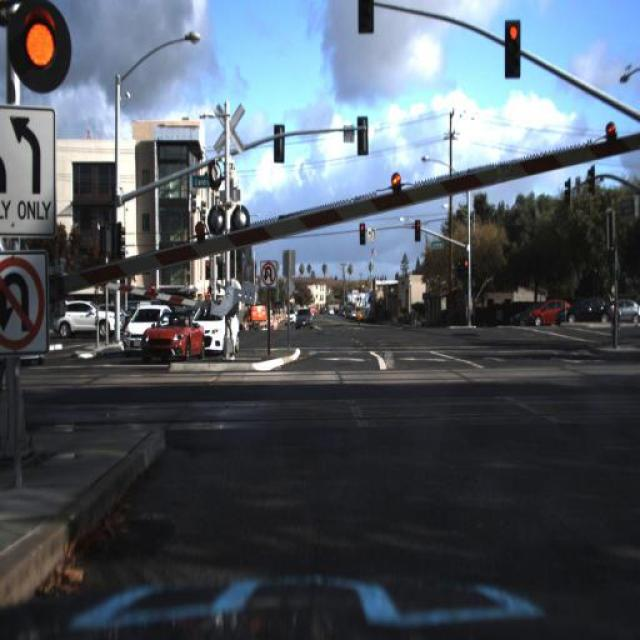car: (43, 294, 122, 344), (134, 310, 203, 360), (189, 300, 240, 356), (124, 303, 174, 353), (556, 293, 622, 329), (116, 304, 158, 355), (527, 297, 574, 324), (289, 299, 317, 333), (508, 300, 542, 328), (295, 305, 313, 329)
trafficLight-Green: (16, 2, 66, 83), (356, 1, 376, 36)
trafficLight-RedLeft: (503, 20, 522, 78), (412, 213, 423, 246), (462, 252, 471, 284), (357, 219, 367, 246), (414, 216, 420, 242)
